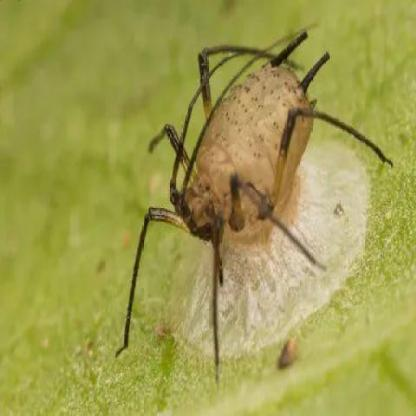aphid: (122, 29, 384, 321)
